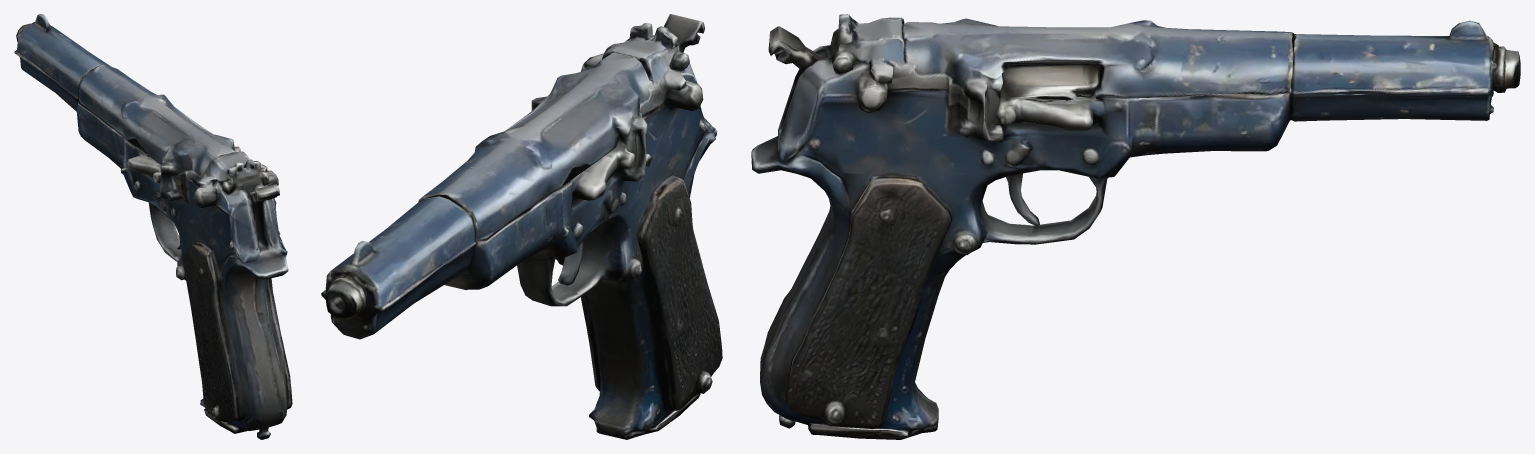
3 renders of one model, left to right at view 1: azimuth 30°, elevation 25°; view 2: azimuth 150°, elevation 25°; view 3: azimuth 270°, elevation 25°, orthographic. The views are drawn at different scales.
Parts seen in each view (by area): view 1: tripo_node_522f78a0-9d2d-4456-9d17-aaeb9c97c700; view 2: tripo_node_522f78a0-9d2d-4456-9d17-aaeb9c97c700; view 3: tripo_node_522f78a0-9d2d-4456-9d17-aaeb9c97c700.
Boxes of the visible parts, x1,y1,x2,y2 form: tripo_node_522f78a0-9d2d-4456-9d17-aaeb9c97c700: (14, 14, 292, 439); tripo_node_522f78a0-9d2d-4456-9d17-aaeb9c97c700: (321, 14, 722, 439); tripo_node_522f78a0-9d2d-4456-9d17-aaeb9c97c700: (751, 14, 1520, 439).
Bounding box in the file's own units: 0.1823 × 0.5723 × 0.9791.
Materials: 1 (1 with a texture image).
